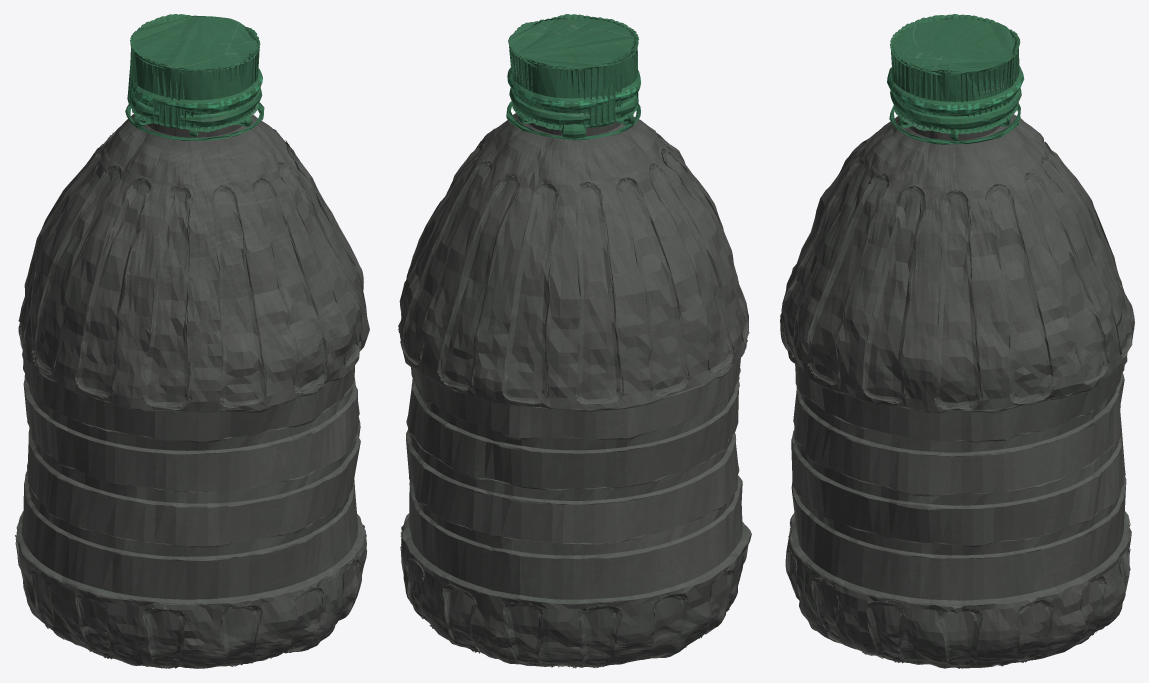
File: crush_low_1.obj
3 renders of one model, left to right at view 1: azimuth 30°, elevation 25°; view 2: azimuth 150°, elevation 25°; view 3: azimuth 270°, elevation 25°, orthographic.
Parts seen in each view (by area): view 1: model; view 2: model; view 3: model.
Boxes of the visible parts, x1=… form: model: x1=15, y1=14, x2=369, y2=668; model: x1=398, y1=14, x2=751, y2=668; model: x1=780, y1=14, x2=1134, y2=668.
Bounding box in the file's own units: 0.1211 × 0.2164 × 0.1217.
1 material, 1 textured.
